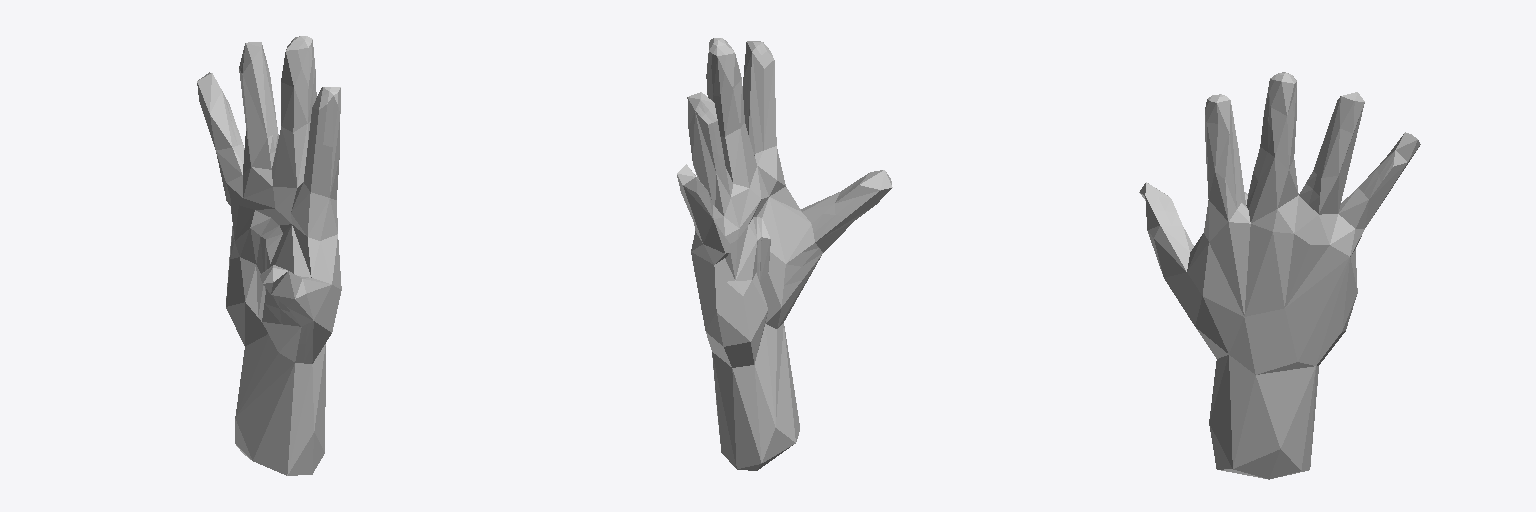
Rendered from hand_mod.obj.
3 renders of one model, left to right at view 1: azimuth 30°, elevation 25°; view 2: azimuth 150°, elevation 25°; view 3: azimuth 270°, elevation 25°, orthographic.
Visible parts, largest first — view 1: ZBrushPolyMesh3D.002; view 2: ZBrushPolyMesh3D.002; view 3: ZBrushPolyMesh3D.002.
Part boxes in pixels (left/top/right/bottom): ZBrushPolyMesh3D.002: left=197, top=36, right=341, bottom=475; ZBrushPolyMesh3D.002: left=677, top=38, right=892, bottom=470; ZBrushPolyMesh3D.002: left=1139, top=72, right=1420, bottom=479.
Size of the model in its own units: 1.61 by 5.38 by 3.32.